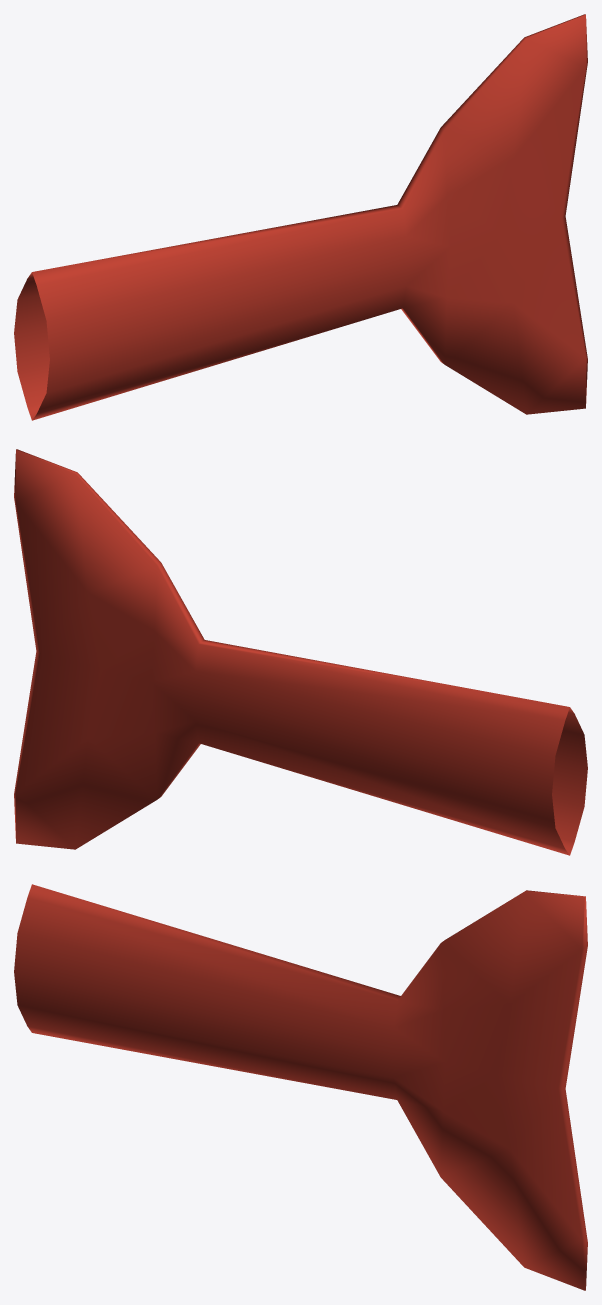
File: ExportedBlenderFBXFile.fbx
The picture shows the model from 3 angles, top to bottom: view 1: azimuth 30°, elevation 25°; view 2: azimuth 150°, elevation 25°; view 3: azimuth 330°, elevation 25°; orthographic projection.
Parts seen in each view (by area): view 1: 1-tail; view 2: 1-tail; view 3: 1-tail.
Boxes of the visible parts, x1,y1,x2,y2 form: 1-tail: (14,14,587,420); 1-tail: (14,449,587,855); 1-tail: (14,884,587,1290).
Bounding box in the file's own units: 1.86 × 1.26 × 0.2082.
